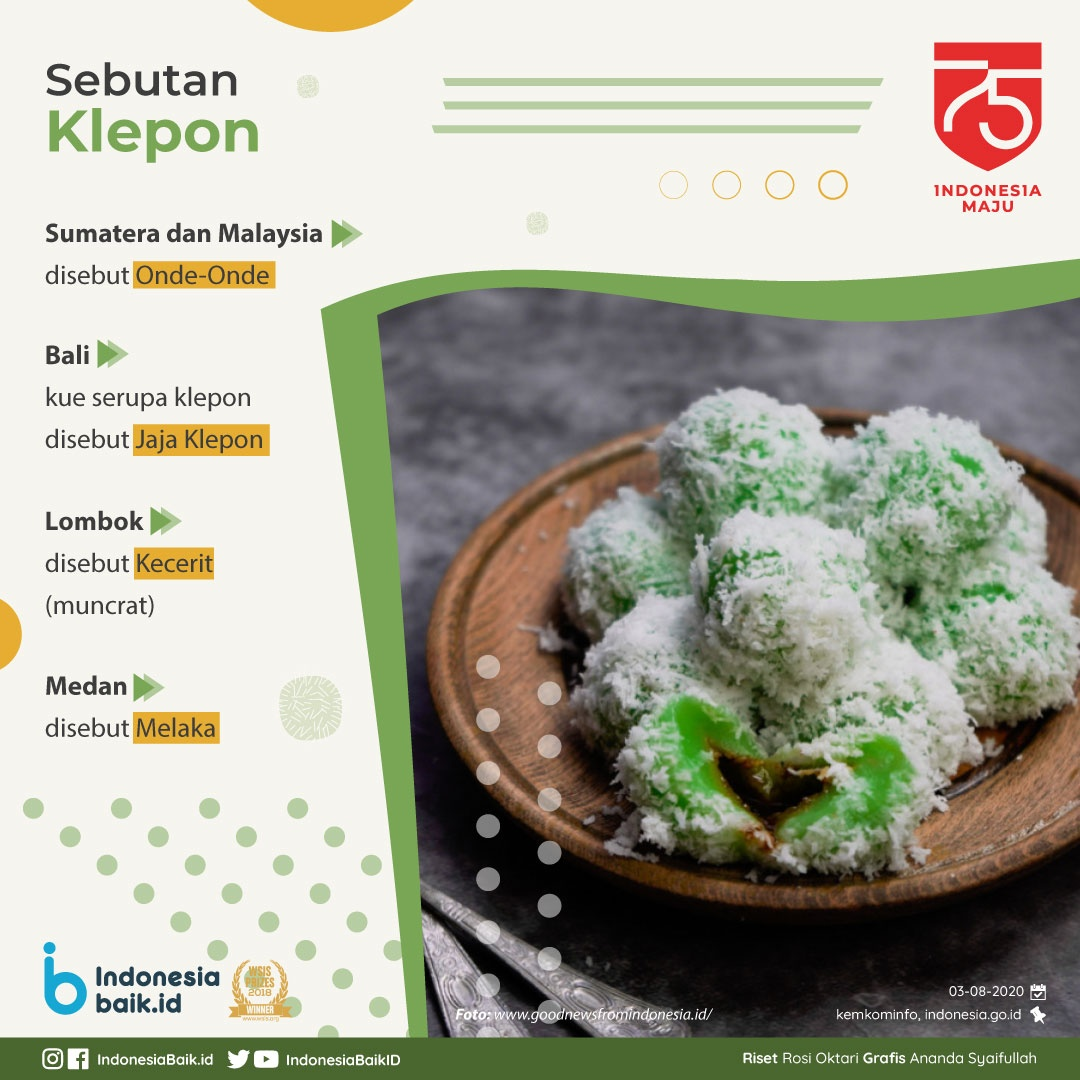klepon: (814, 399, 1045, 598), (649, 523, 889, 689)
